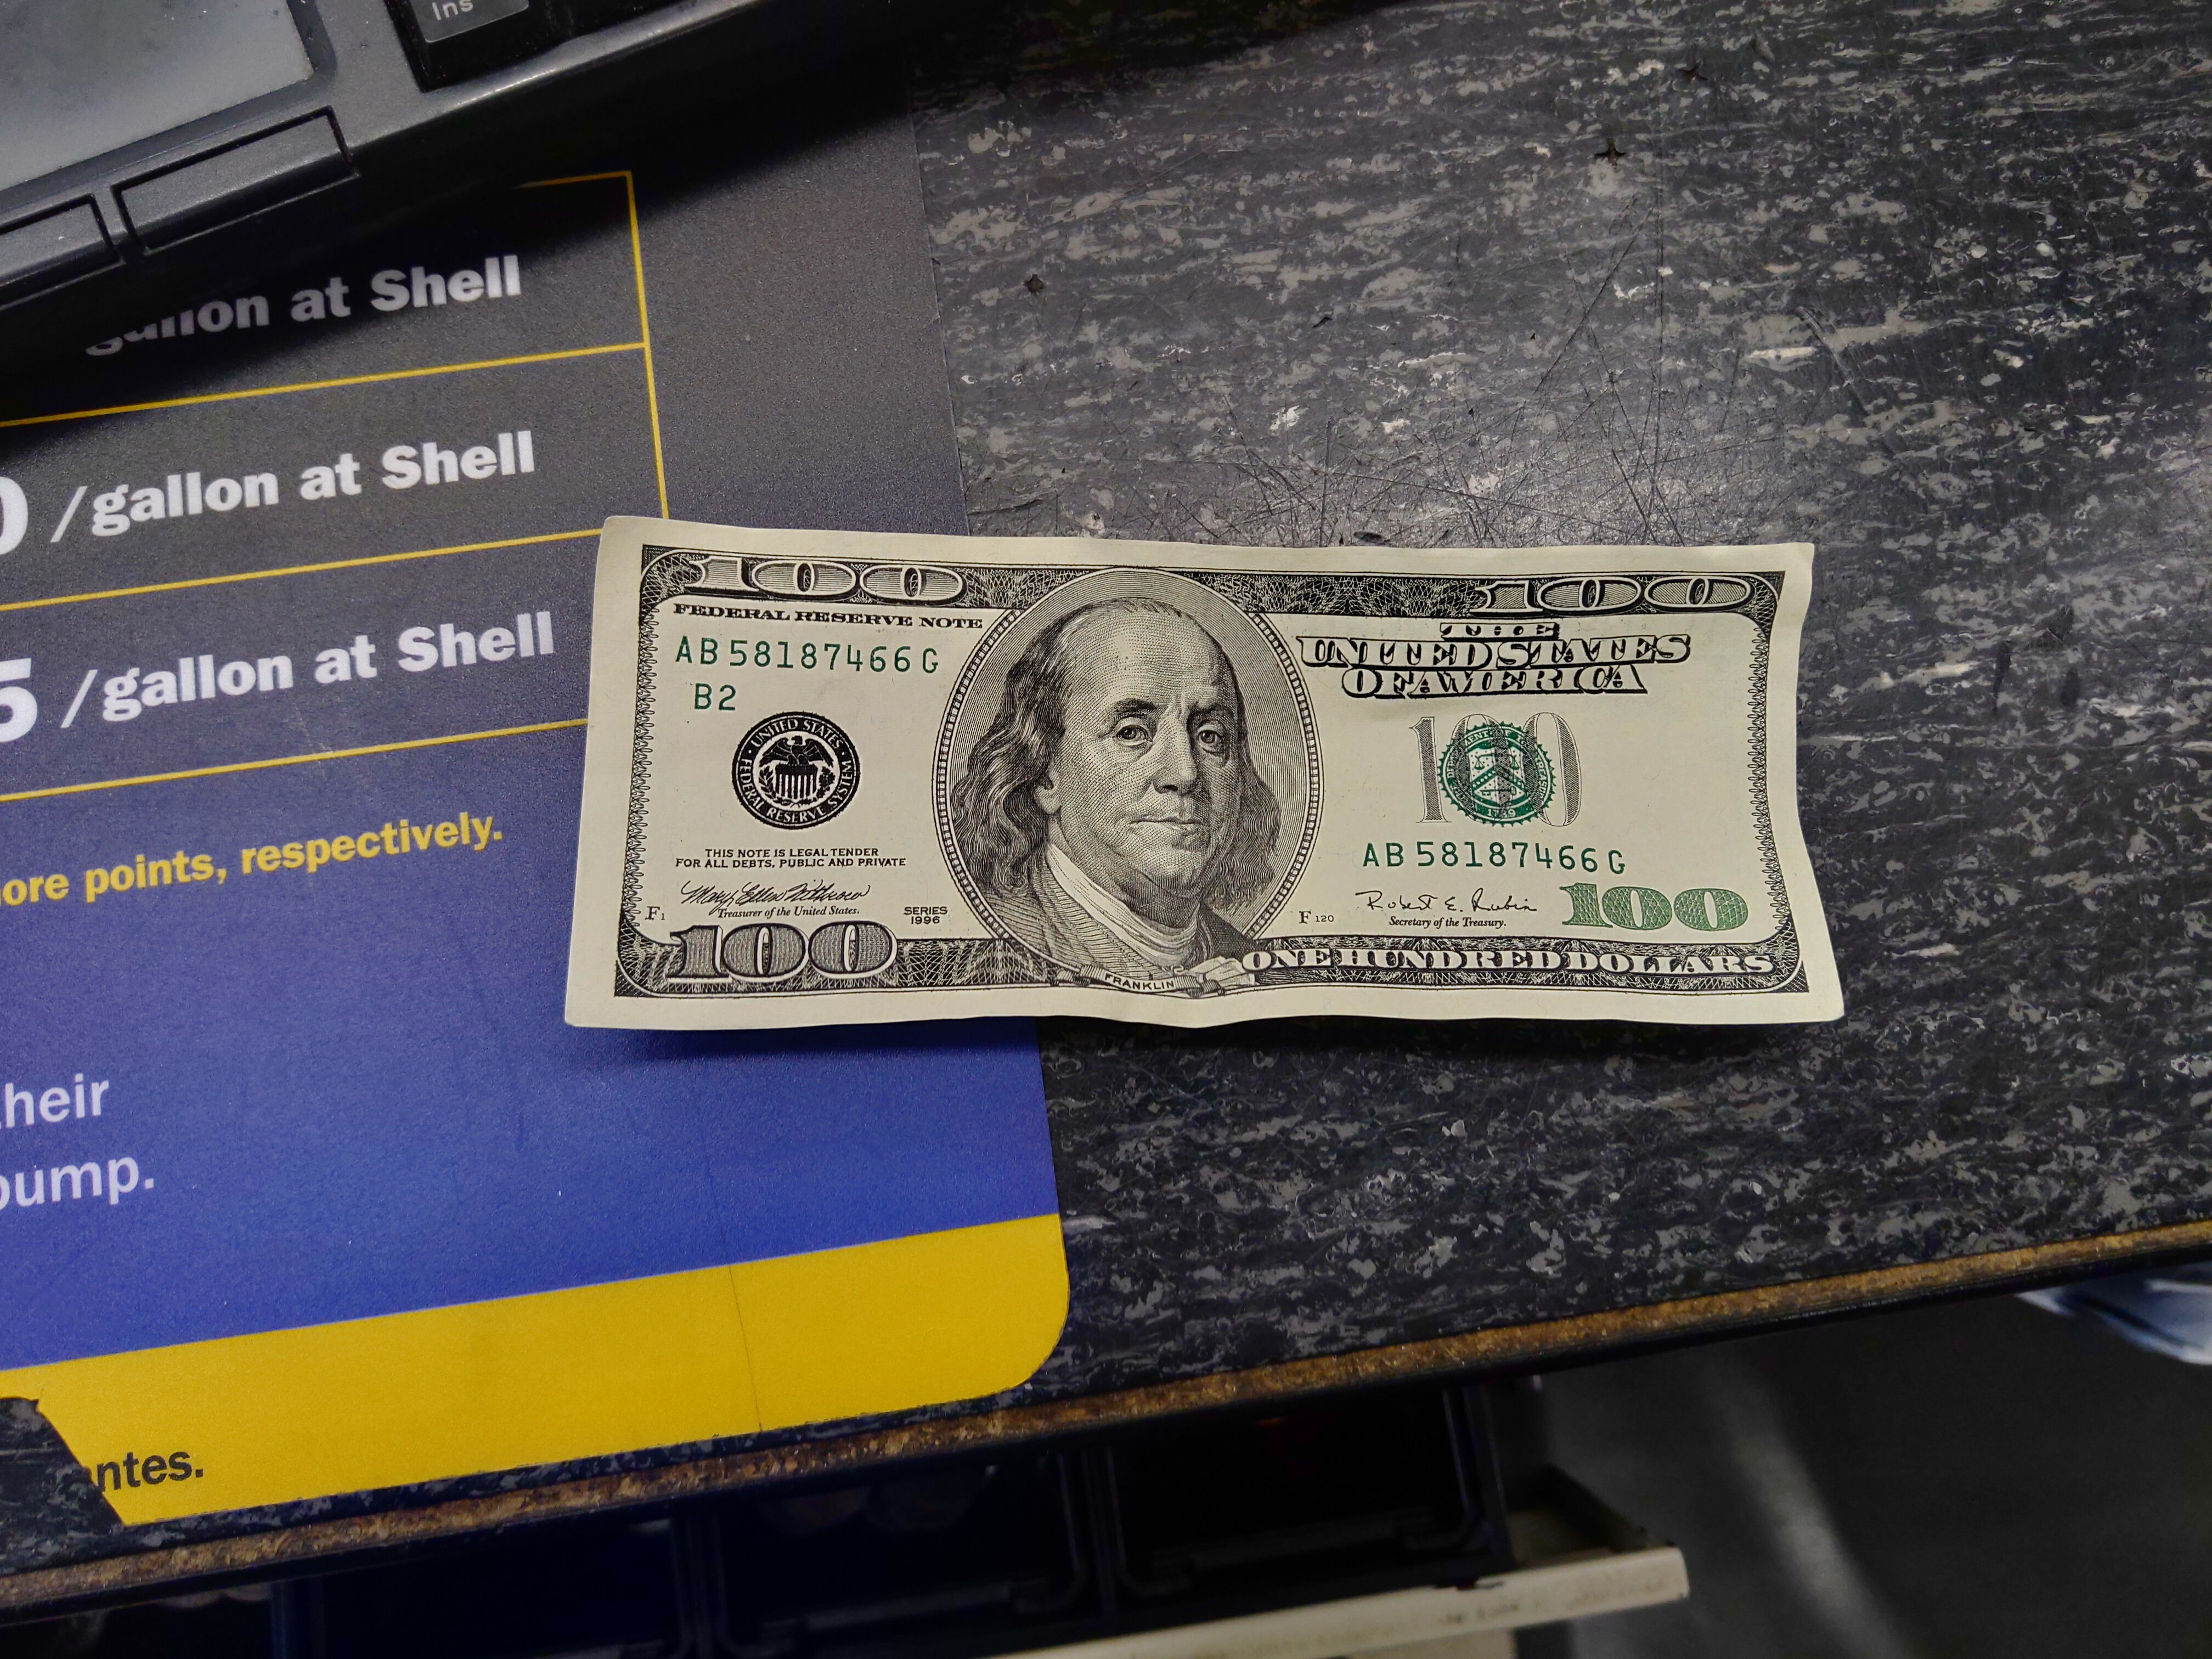HundredBill: (559, 512, 1848, 1037)
